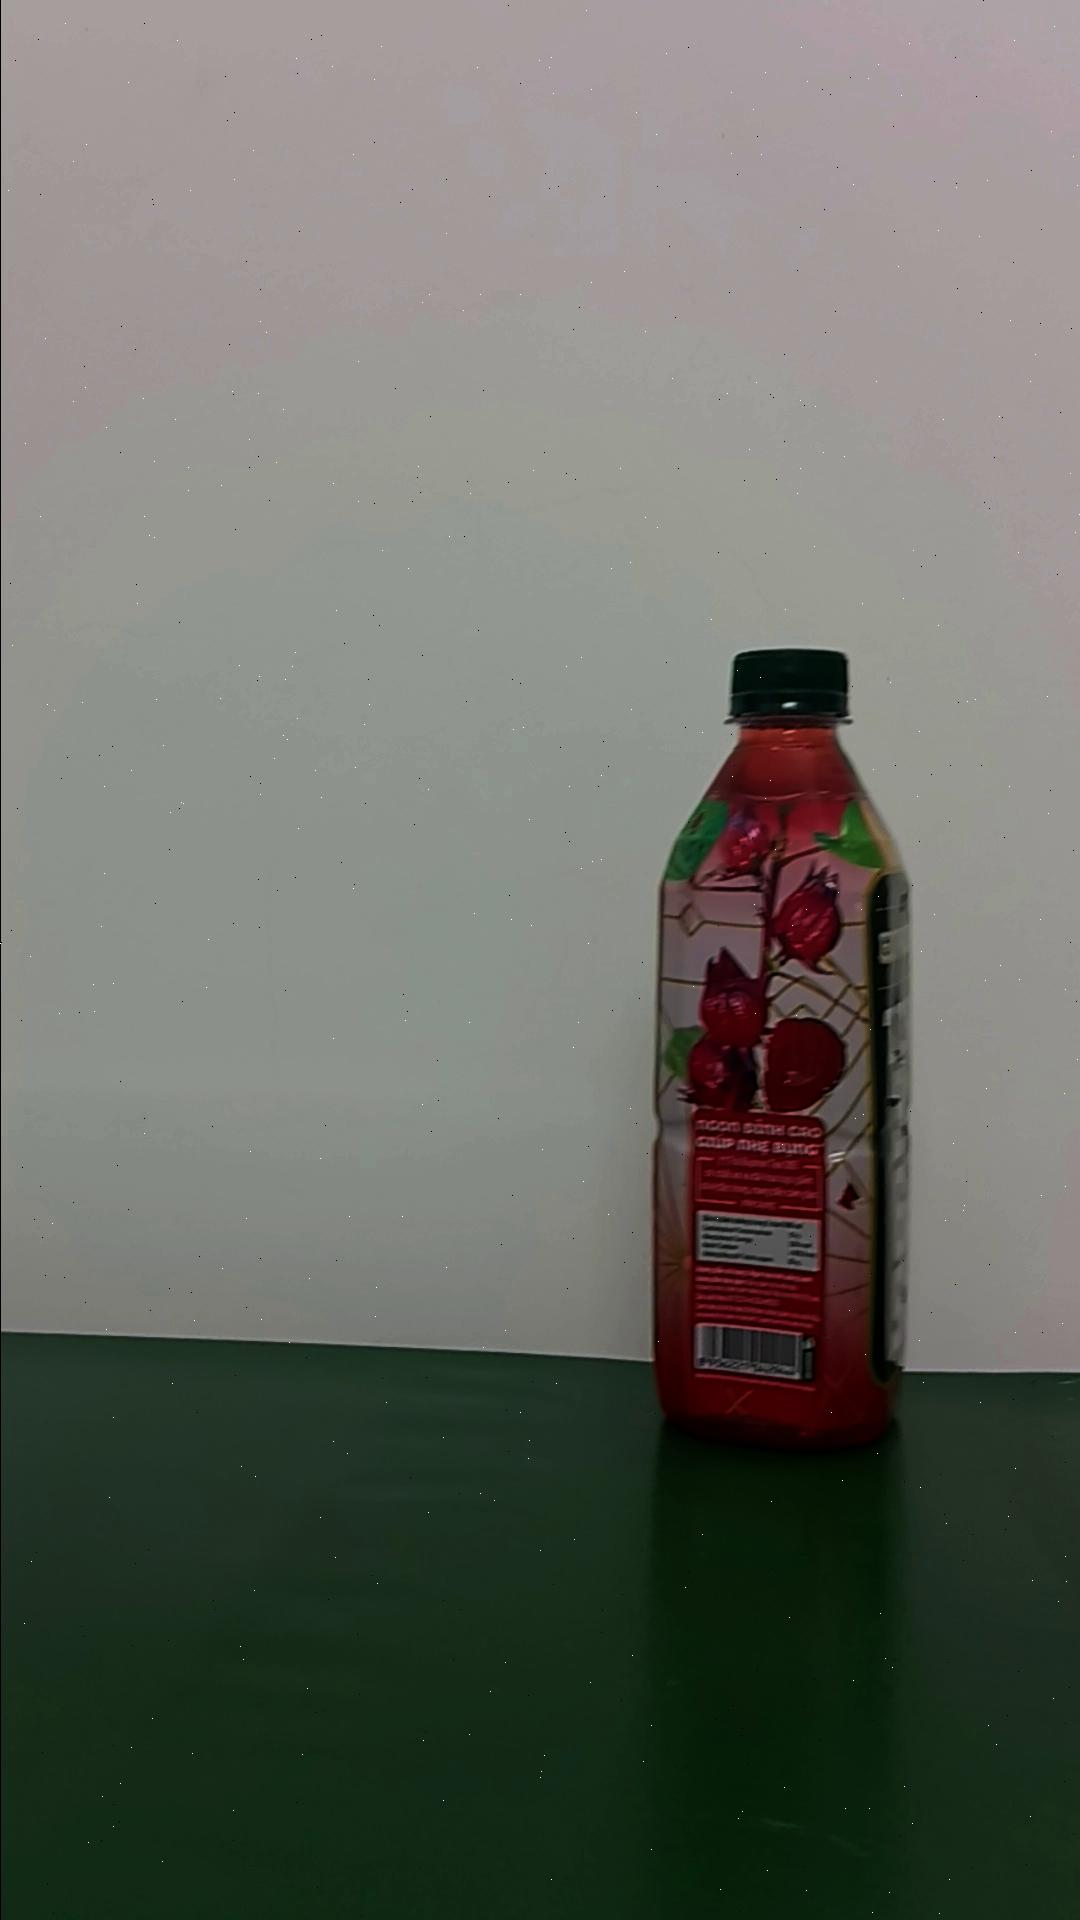loi rach va lap chai: (647, 638, 916, 1457)
